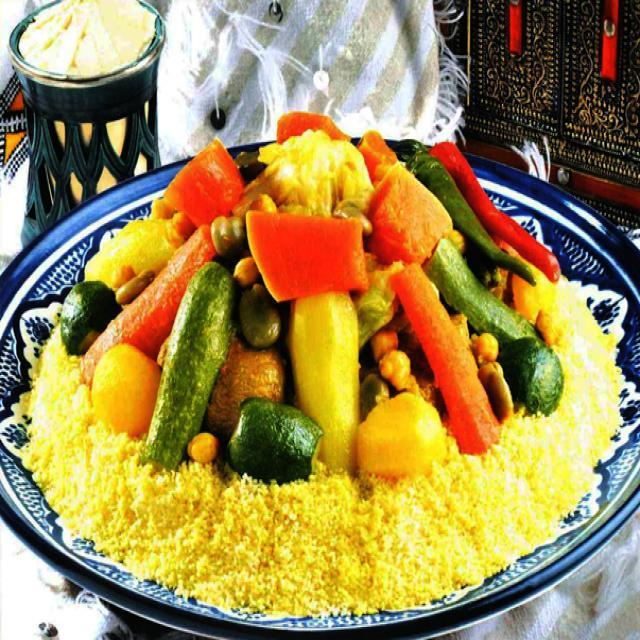Couscous: (17, 109, 640, 618)
